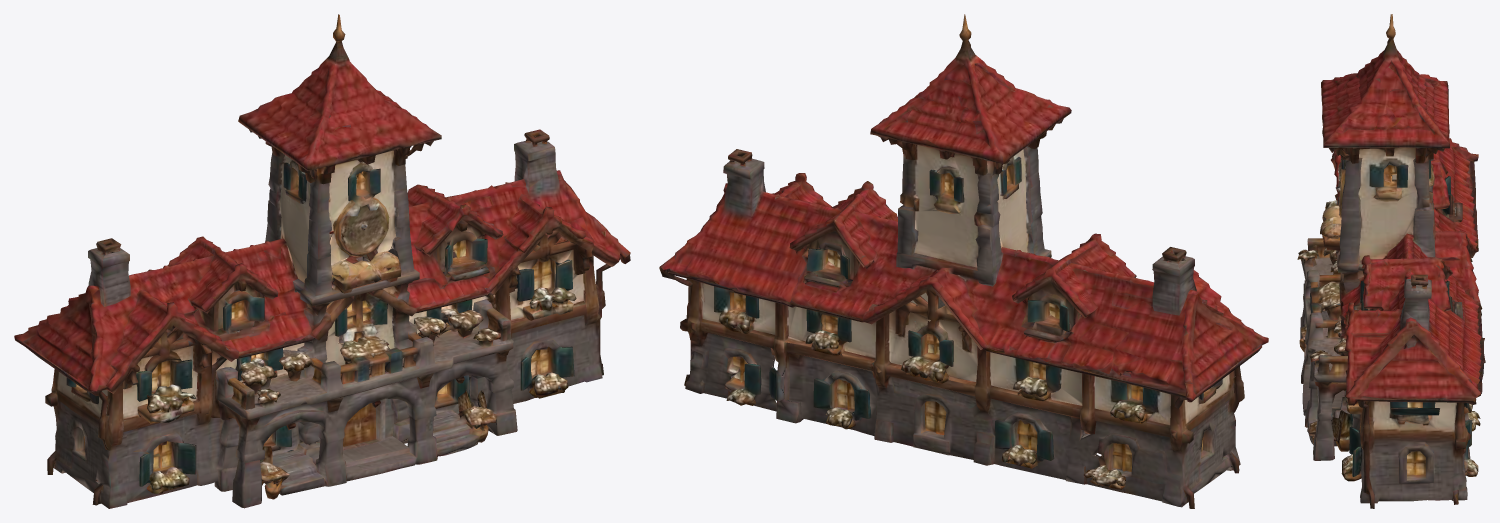
3 renders of one model, left to right at view 1: azimuth 30°, elevation 25°; view 2: azimuth 150°, elevation 25°; view 3: azimuth 270°, elevation 25°, orthographic. The views are drawn at different scales.
Visible parts, largest first — view 1: alpine__finance_3__native_mobile; view 2: alpine__finance_3__native_mobile; view 3: alpine__finance_3__native_mobile.
Part boxes in pixels (bbox=[...]): alpine__finance_3__native_mobile: bbox=[14, 14, 630, 508]; alpine__finance_3__native_mobile: bbox=[659, 14, 1268, 508]; alpine__finance_3__native_mobile: bbox=[1297, 14, 1485, 508].
Bounding box in the file's own units: 1 × 0.741 × 0.3236.
Materials: 1 (1 with a texture image).
